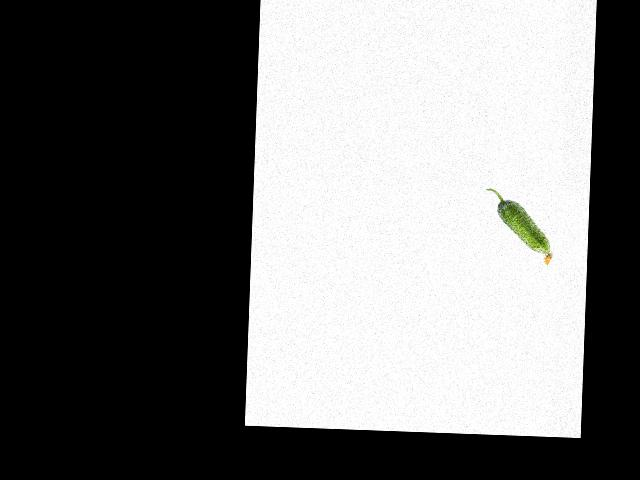cucumber: (483, 188, 555, 265)
